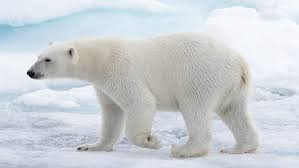PolarBear: (25, 34, 261, 157)
